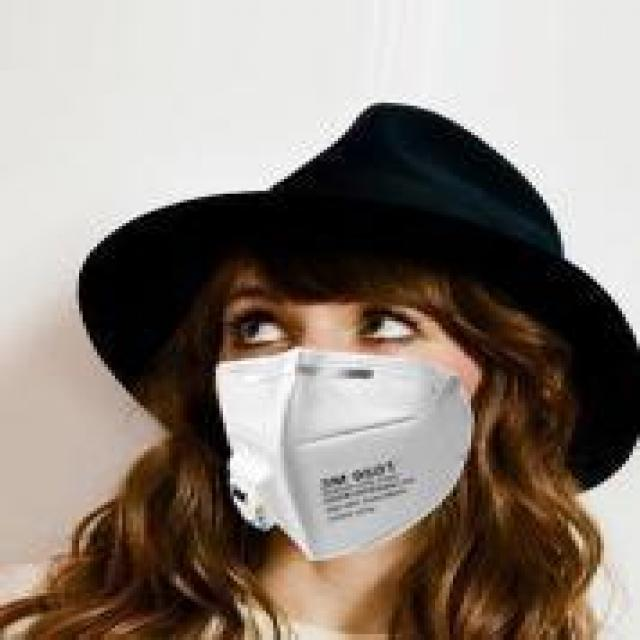mask: (133, 106, 568, 581)
